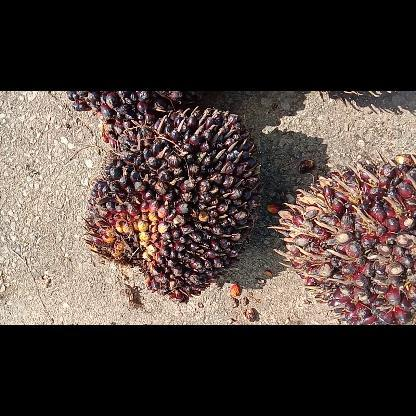TBS mentah: (83, 106, 261, 300), (267, 150, 415, 324), (66, 91, 184, 147)
